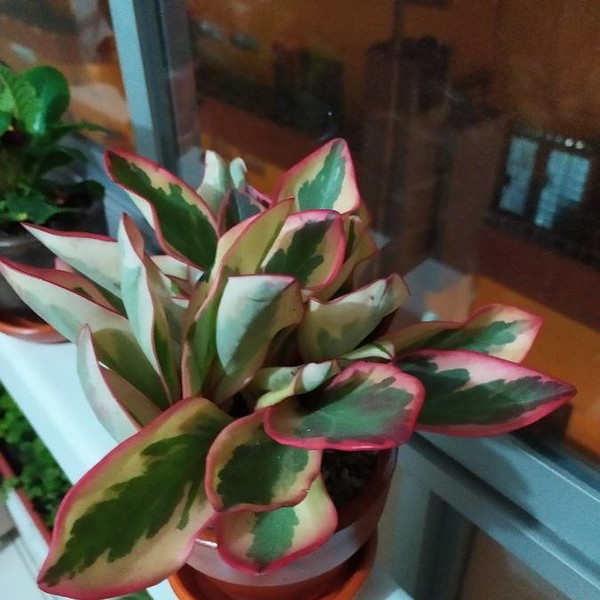obstacle: (37, 114, 416, 598)
